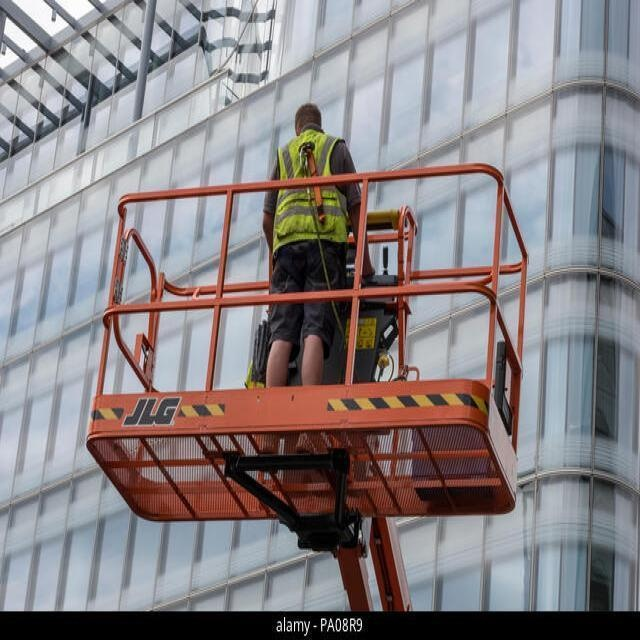Arnes_seguridad: (270, 130, 354, 289)
